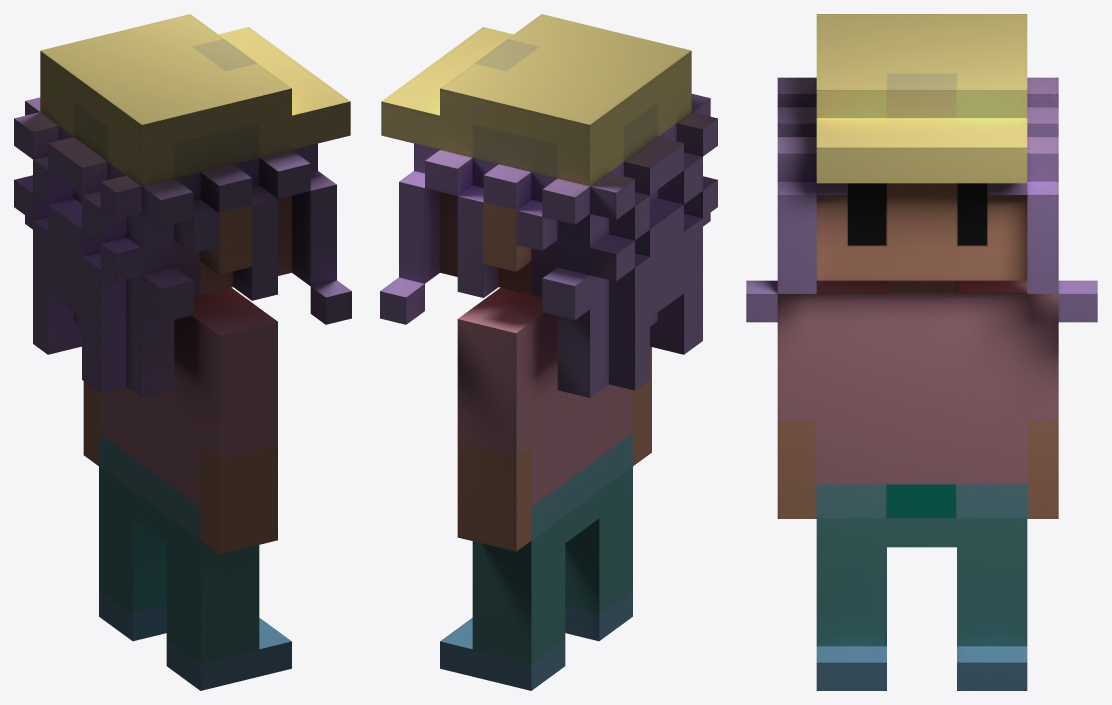
Rendered from avatar.glb.
The picture shows the model from 3 angles, left to right: view 1: azimuth 30°, elevation 25°; view 2: azimuth 150°, elevation 25°; view 3: azimuth 270°, elevation 25°; orthographic projection. The views are drawn at different scales.
Parts seen in each view (by area): view 1: avatar.002; view 2: avatar.002; view 3: avatar.002.
Part boxes in pixels (bbox=[...]): avatar.002: bbox=[14, 14, 351, 690]; avatar.002: bbox=[380, 14, 717, 690]; avatar.002: bbox=[746, 14, 1097, 690].
Bounding box in the file's own units: 3.6 × 8.5 × 4.5.
1 material, 1 textured.
